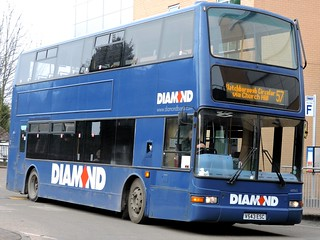bus: (5, 2, 303, 223)
